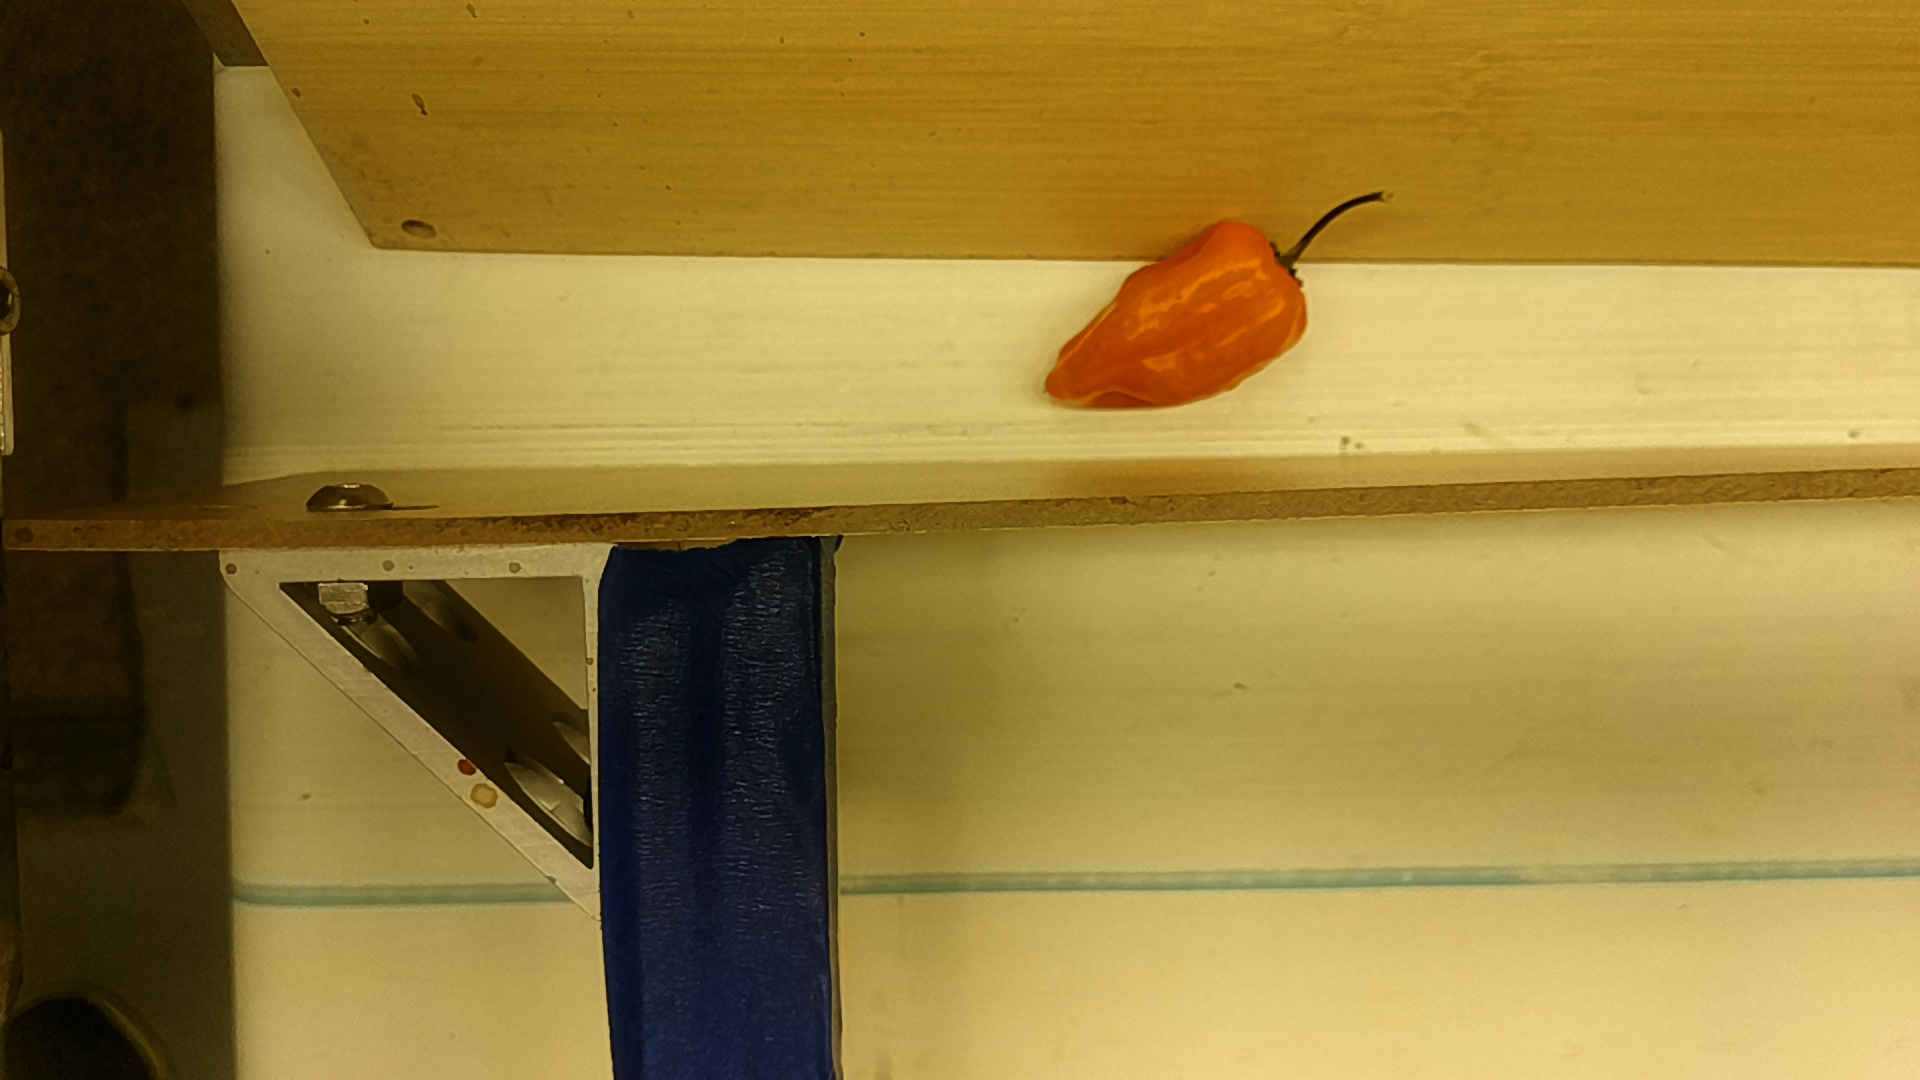Cut Point: (1232, 210, 1313, 328)
